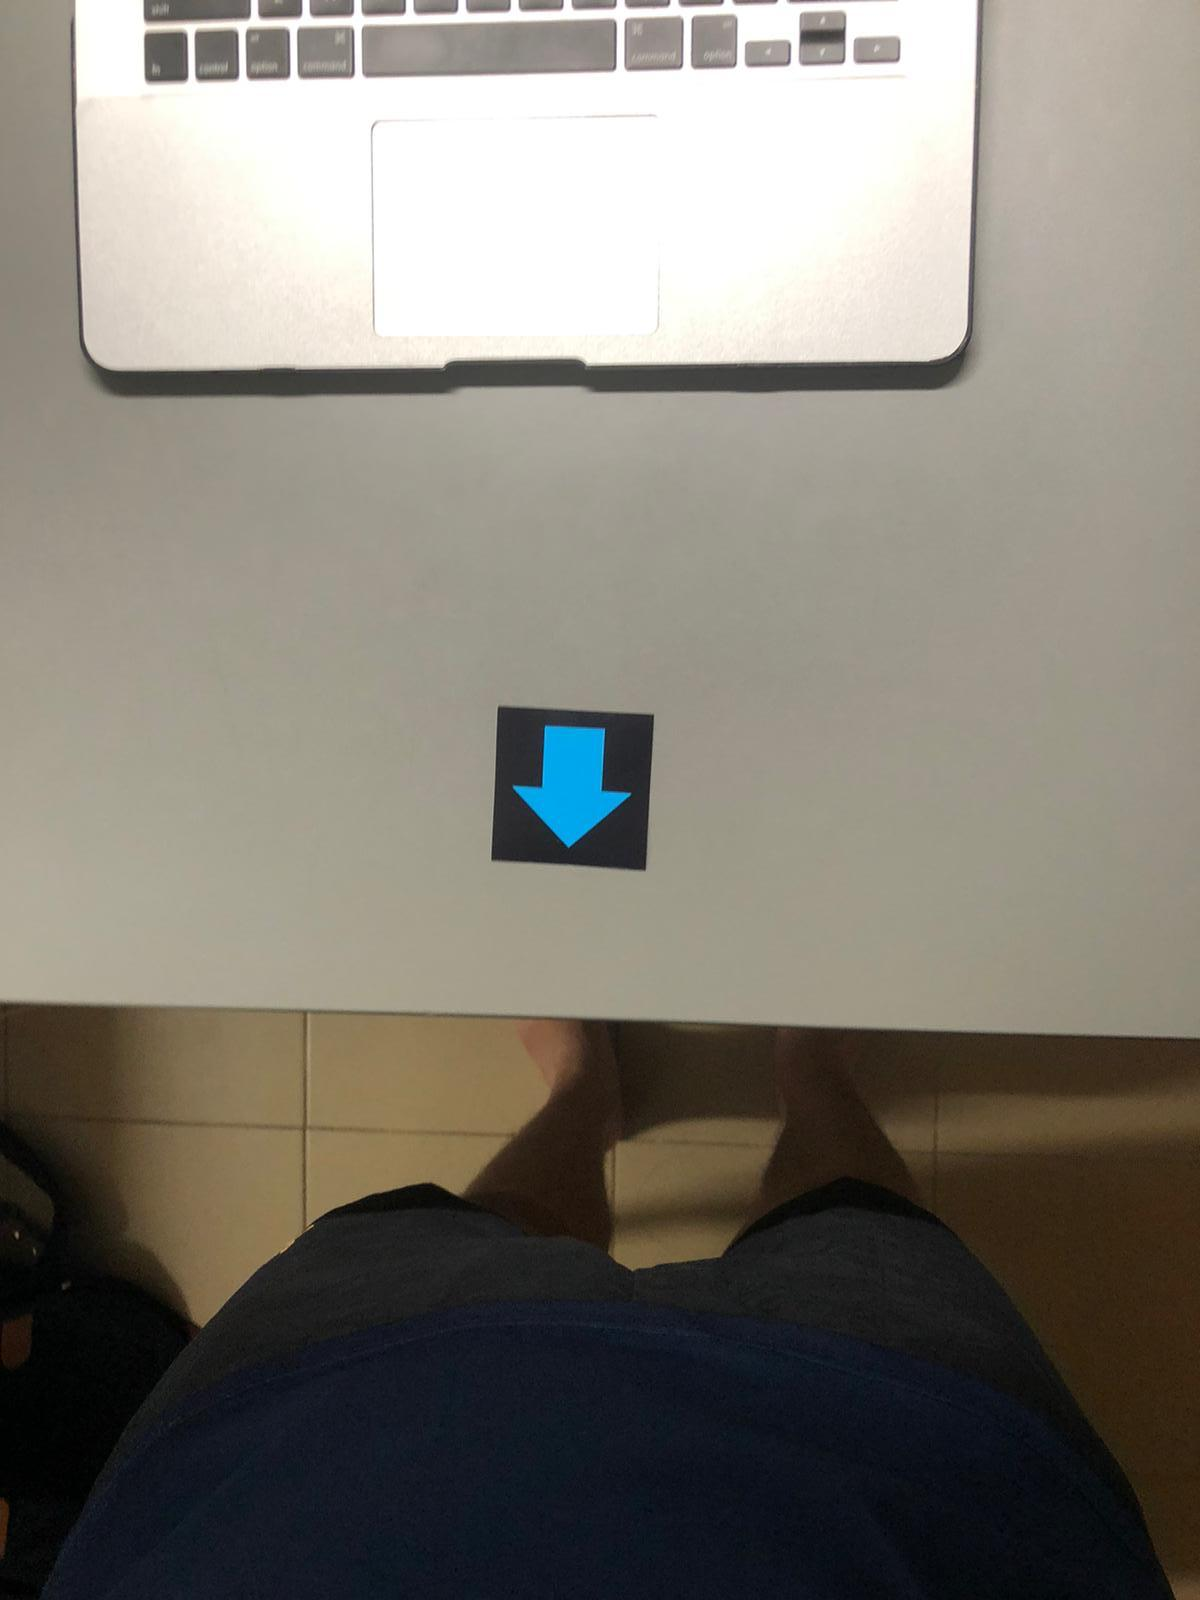Down Arrow: (497, 712, 639, 871)
